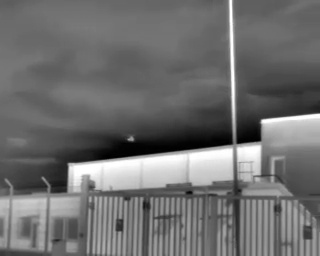HELICOPTER: (124, 132, 139, 146)
